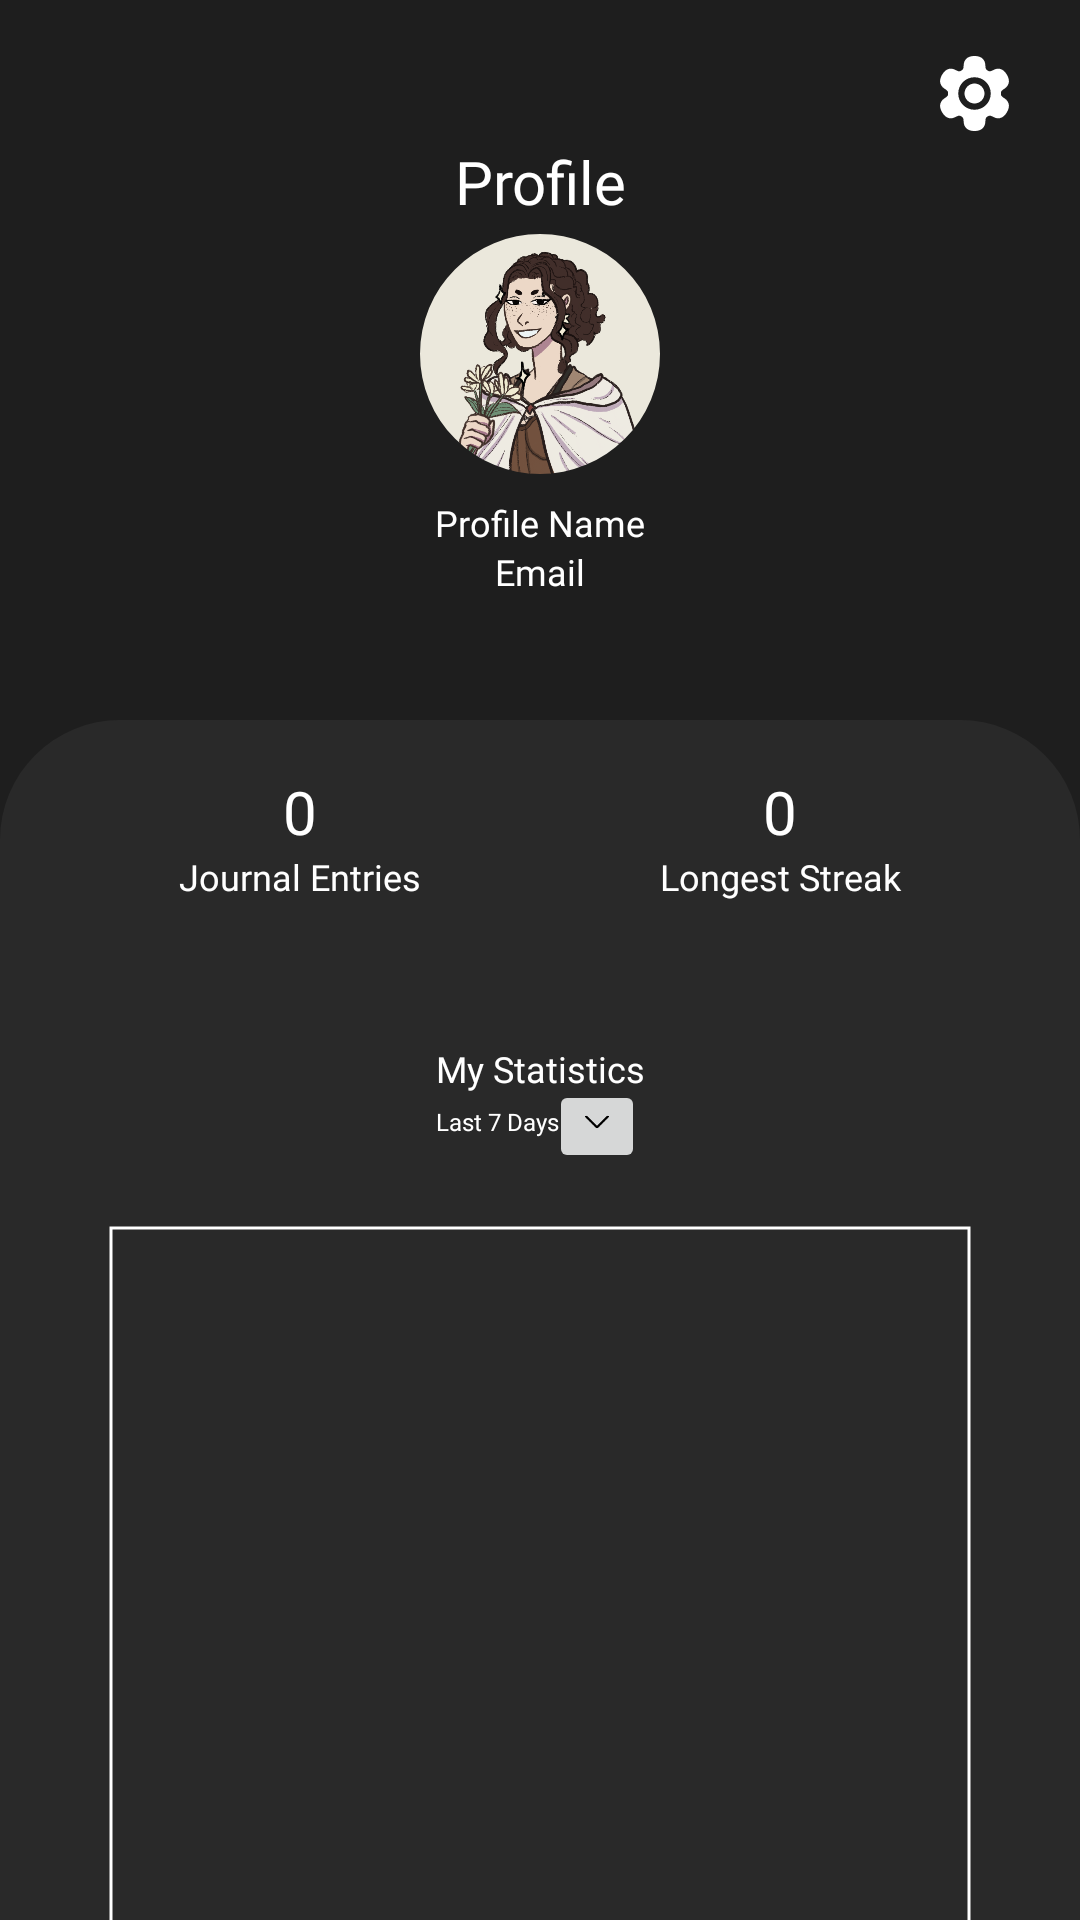

Icons on this 1080*1920 Android screen, each with the point to tap as (x,y):
dropdown: (591,1126)
settings: (974,93)
